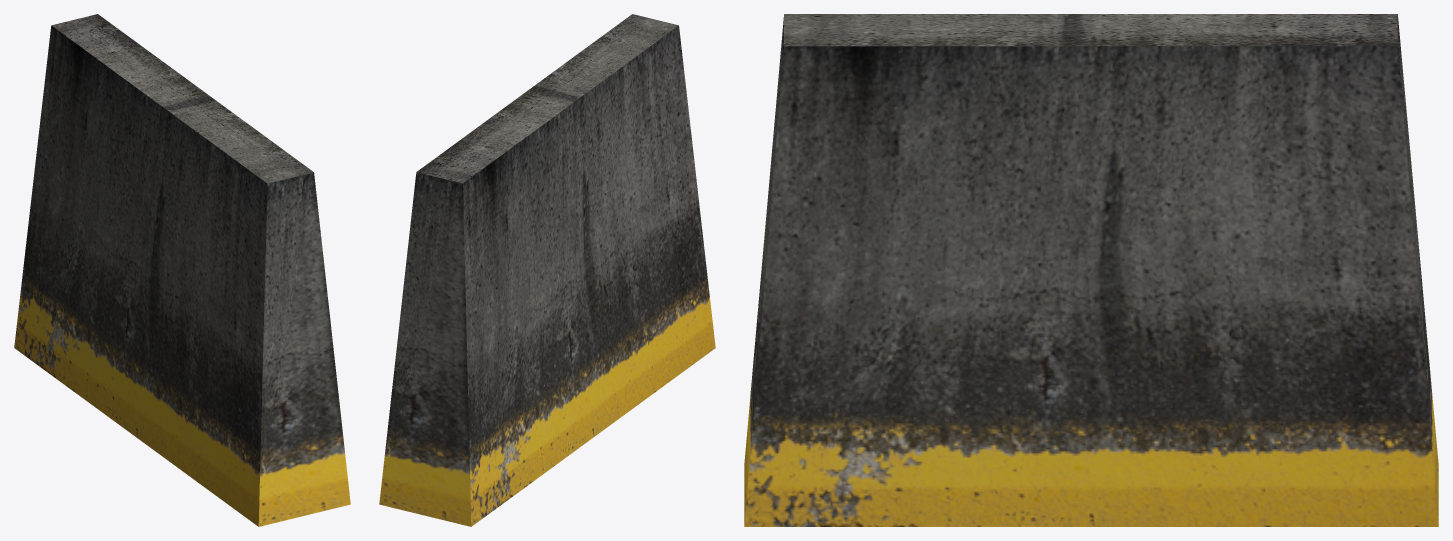
File: road barrier D.FBX
3 views of the same model, side by side, from view 1: azimuth 30°, elevation 25°; view 2: azimuth 150°, elevation 25°; view 3: azimuth 270°, elevation 25° (orthographic). The views are drawn at different scales.
Visible parts, largest first — view 1: Box001; view 2: Box001; view 3: Box001.
Part boxes in pixels (x1,y1,x2,y2): Box001: [14, 14, 350, 526]; Box001: [379, 14, 715, 526]; Box001: [744, 14, 1438, 526].
Size of the model in its own units: 5 by 17 by 23.
